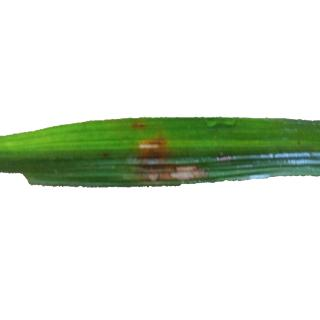Hawar-Daun: (136, 142, 167, 179), (175, 153, 201, 180)
